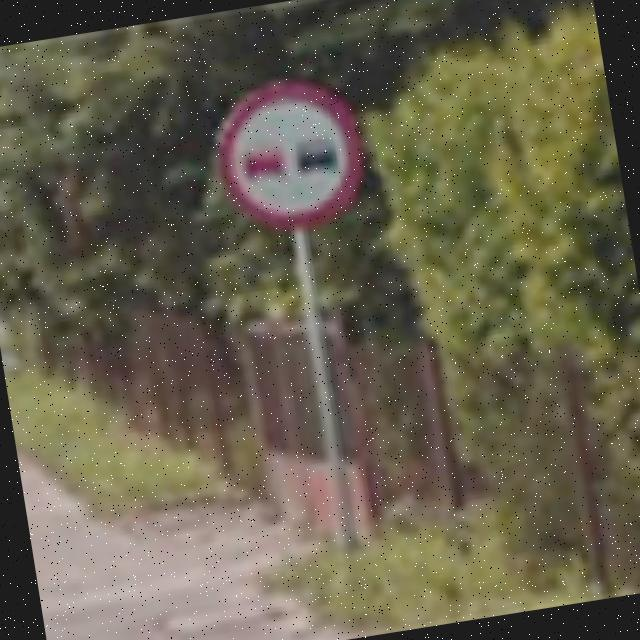Zakaz wyprzedzania: (204, 71, 375, 243)
